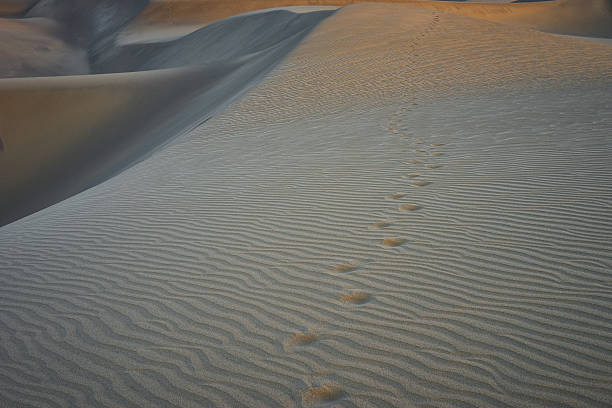human_footprint: (304, 371, 356, 408), (284, 330, 322, 356), (342, 282, 372, 312), (374, 182, 402, 204), (380, 237, 408, 253), (396, 202, 428, 216), (416, 170, 432, 194), (374, 214, 390, 236), (340, 262, 355, 276)
